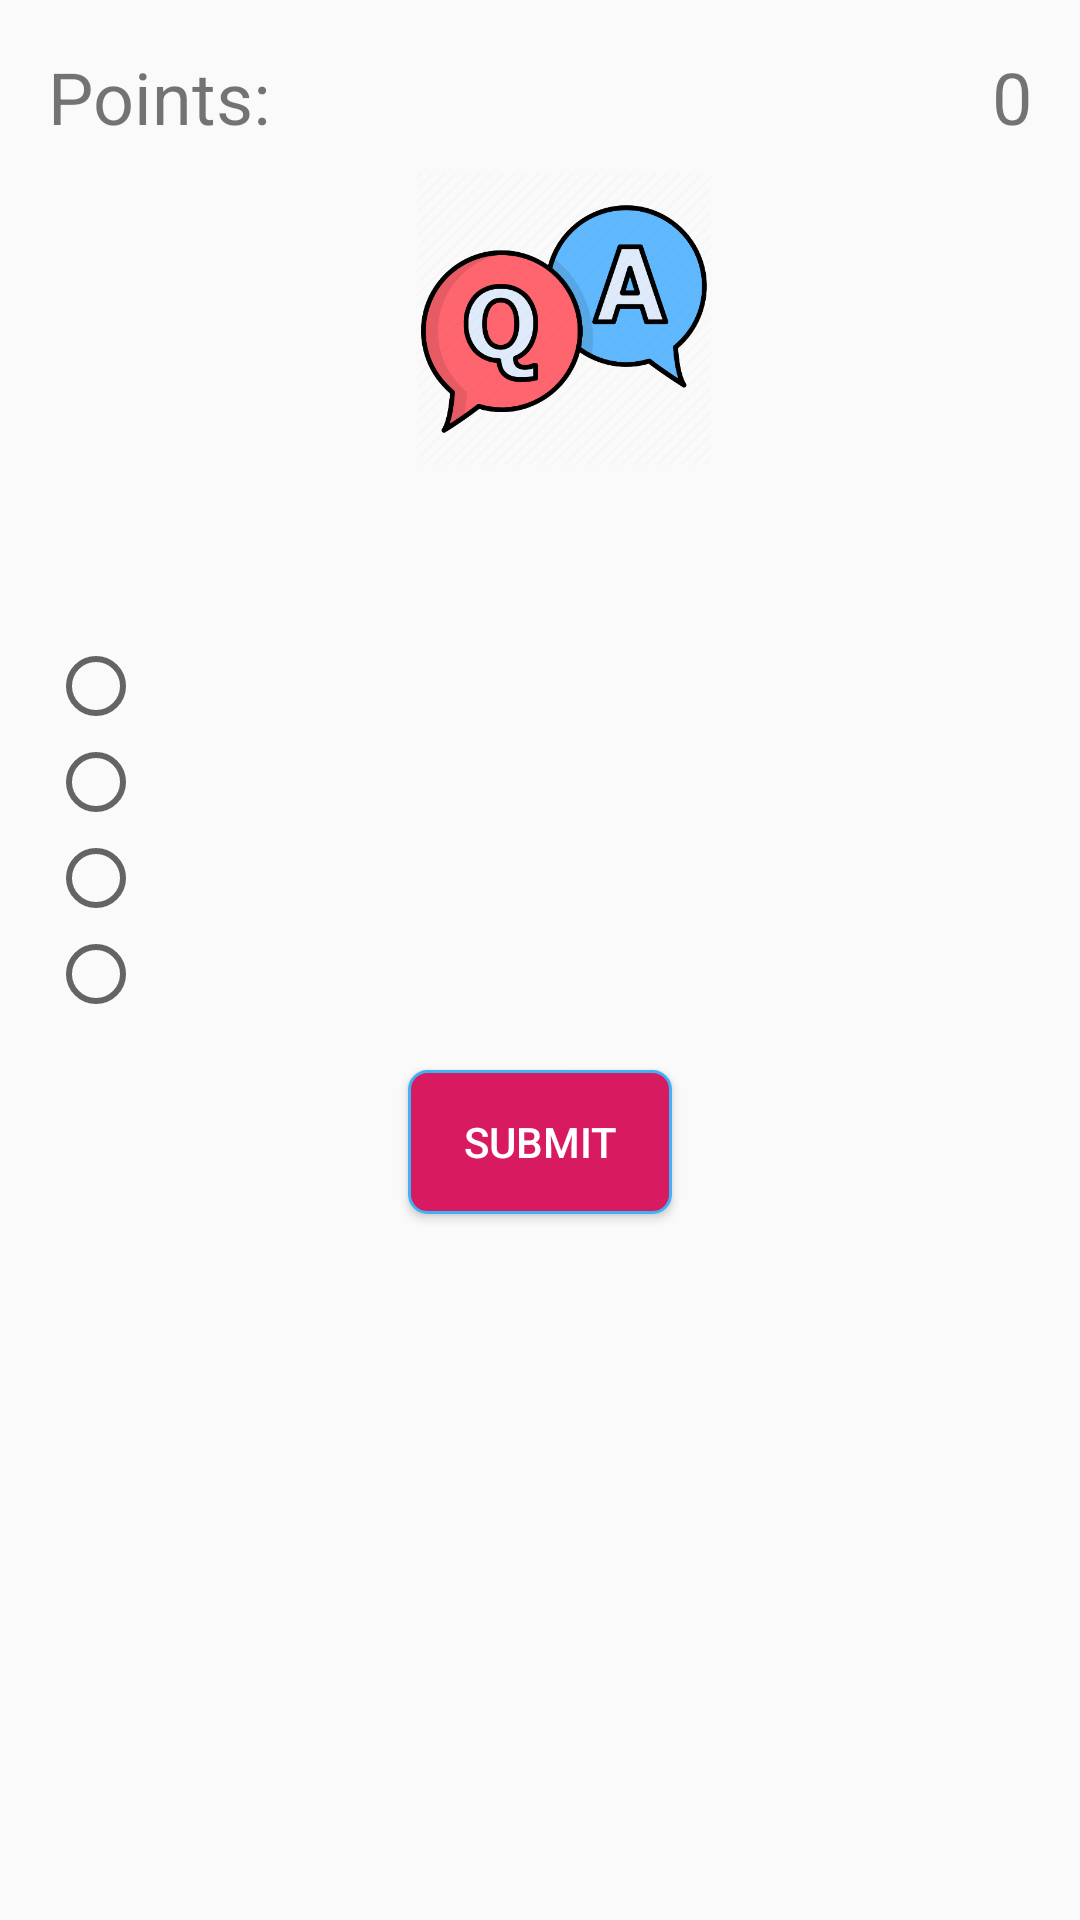

Icon click points for this 1080px×1920px phone screenshot, format point (x, y):
qna: point (564, 319)
